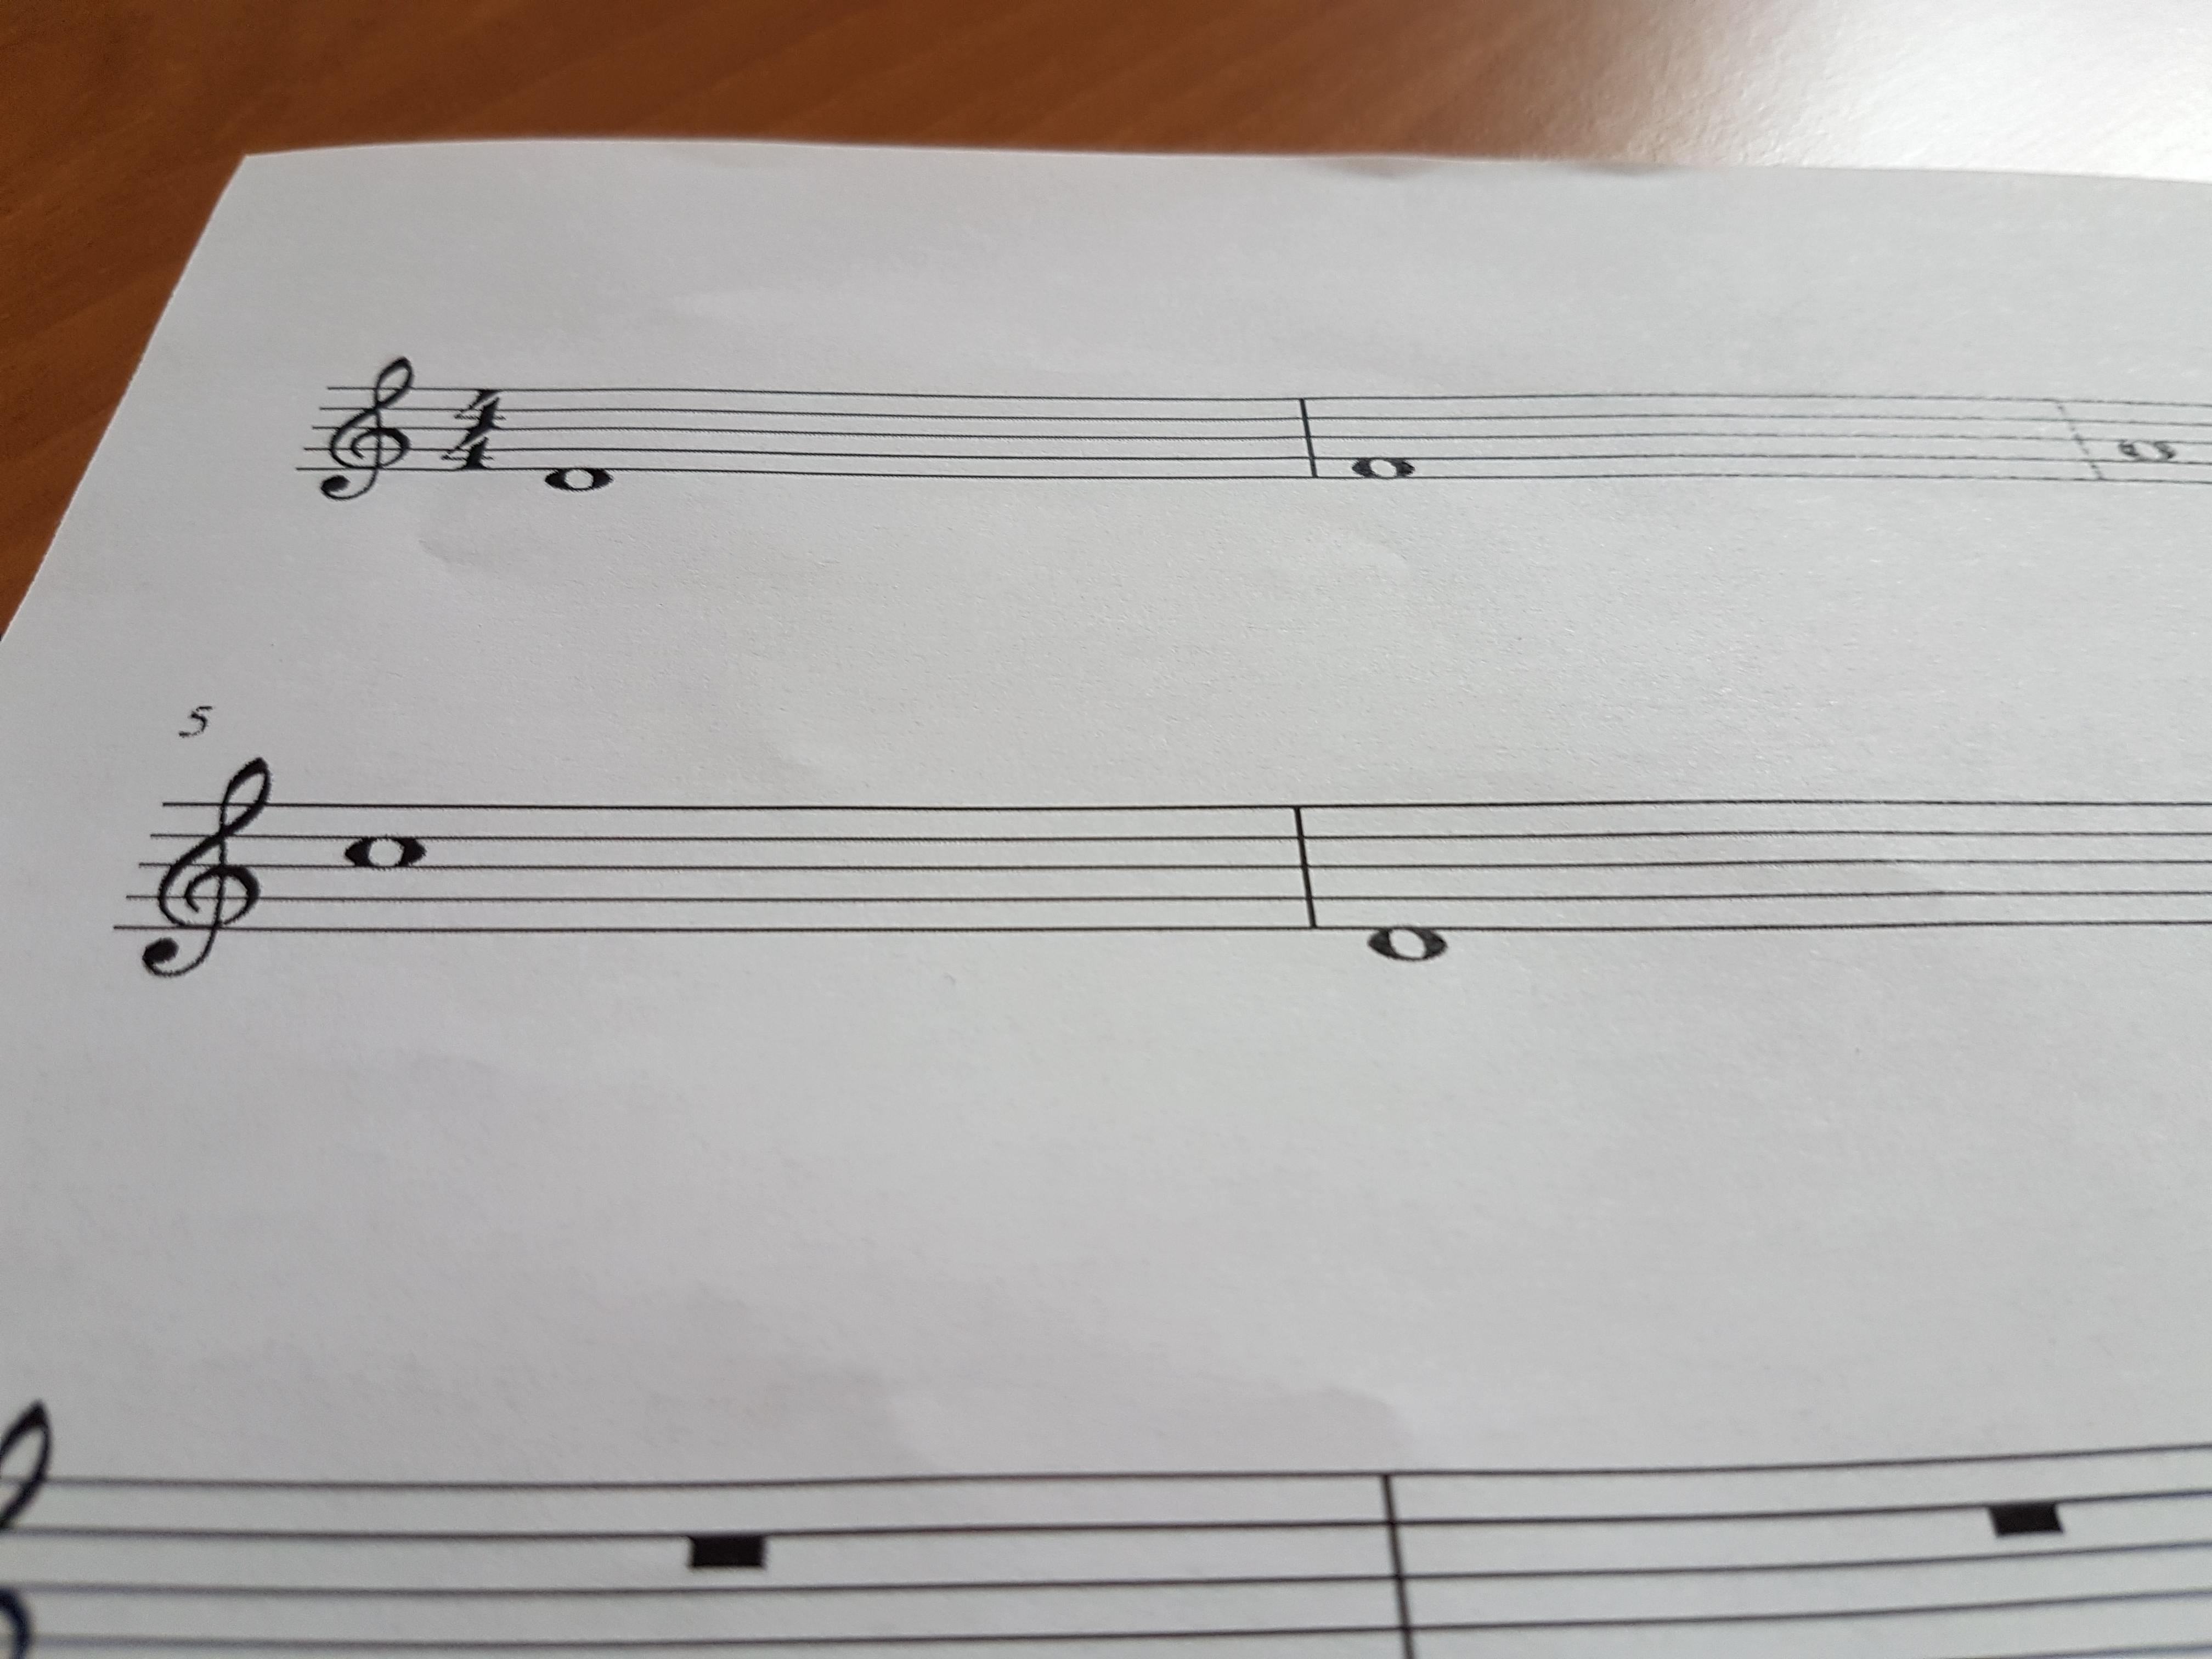key: (134, 744, 277, 1002), (307, 342, 421, 523)
pipe: (1280, 784, 1329, 948), (1291, 380, 1324, 493)
semibreve_c: (329, 767, 434, 988)
semibreve_d: (1348, 765, 1458, 997), (536, 359, 615, 538)
semibreve_f: (1345, 361, 1421, 525)
